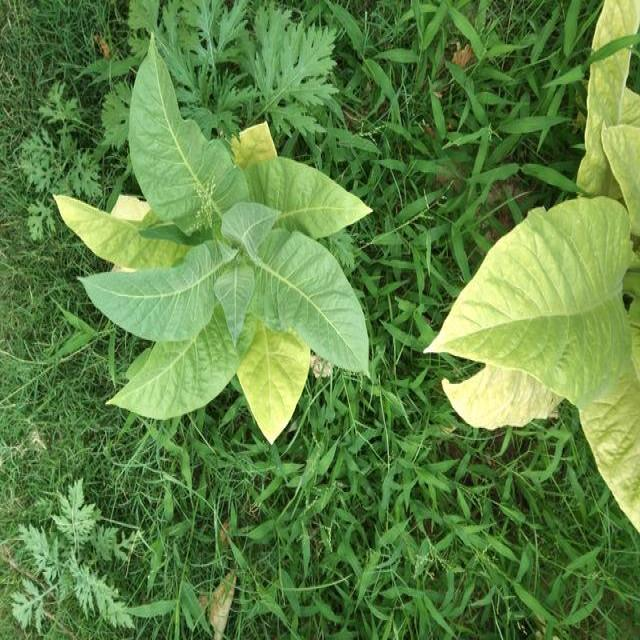crop: (49, 38, 377, 446)
